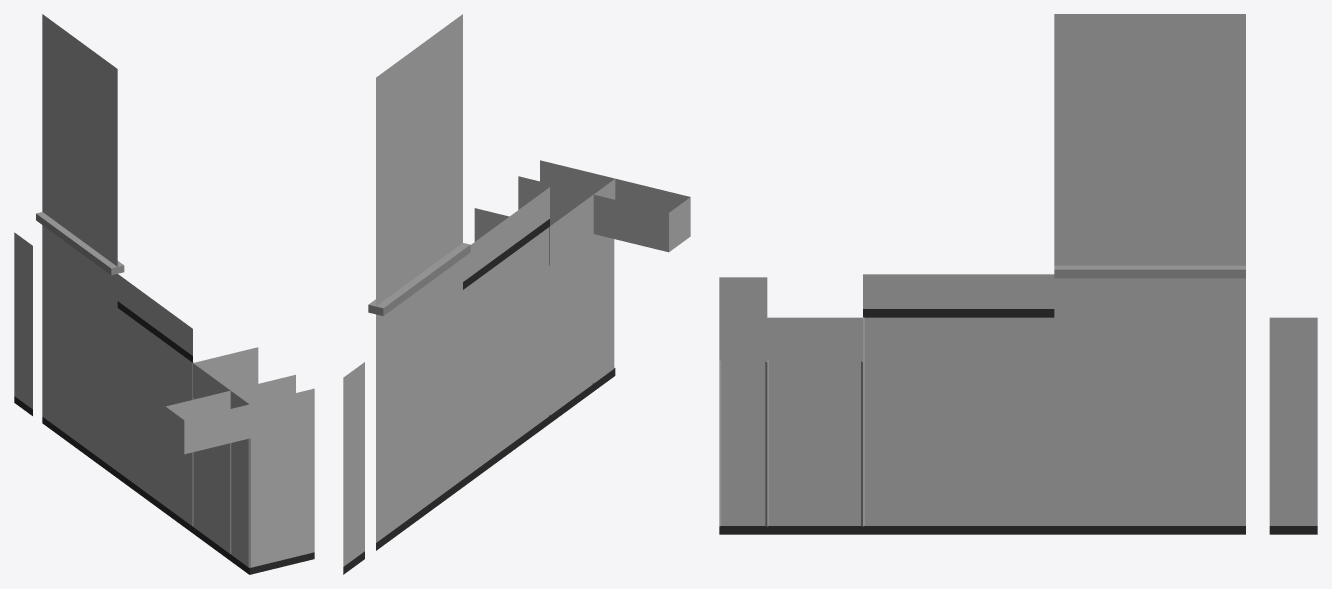
File: Walls.fbx
The picture shows the model from 3 angles, left to right: view 1: azimuth 30°, elevation 25°; view 2: azimuth 150°, elevation 25°; view 3: azimuth 270°, elevation 25°; orthographic projection. The views are drawn at different scales.
Visible parts, largest first — view 1: Wall_Tall, Wall_E_S, Wall_M, Wall_C, Wall_S, Wall_E, Overhang, FloorIntersection, Wall_XS, Wall_Short; view 2: Wall_Tall, Wall_M, Wall_E, Wall_C, Wall_S, Wall_E_S, Overhang, FloorIntersection, Wall_XS, Wall_Short; view 3: Wall_Tall, Wall_M, Wall_S, Wall_E, Wall_C, Wall_XS, FloorIntersection, Wall_E_S, Wall_Short, Overhang.
Boxes of the visible parts, box(x1,y1,x2,y2) form: Wall_Tall: box(42, 14, 117, 304); Wall_E_S: box(230, 375, 314, 574); Wall_M: box(42, 253, 117, 477); Wall_C: box(155, 335, 258, 533); Wall_S: box(117, 308, 155, 505); Wall_E: box(193, 359, 295, 560); Overhang: box(165, 390, 249, 454); FloorIntersection: box(36, 212, 124, 307); Wall_XS: box(14, 232, 32, 415); Wall_Short: box(117, 274, 192, 362); Wall_Tall: box(376, 14, 462, 353); Wall_M: box(376, 290, 462, 550); Wall_E: box(474, 176, 593, 423); Wall_C: box(474, 209, 549, 454); Wall_S: box(463, 258, 506, 486); Wall_E_S: box(518, 160, 615, 391); Overhang: box(593, 178, 690, 252); FloorIntersection: box(368, 243, 470, 353); Wall_XS: box(343, 362, 364, 574); Wall_Short: box(463, 187, 549, 289); Wall_Tall: box(1054, 14, 1245, 317); Wall_M: box(1054, 317, 1245, 534); Wall_S: box(958, 317, 1054, 534); Wall_E: box(767, 317, 862, 534); Wall_C: box(863, 317, 958, 534); Wall_XS: box(1269, 317, 1317, 534); FloorIntersection: box(1054, 265, 1245, 317); Wall_E_S: box(719, 360, 767, 534); Wall_Short: box(863, 274, 1054, 317); Overhang: box(719, 277, 767, 360).
Size of the model in its own units: 200 by 600 by 625.
